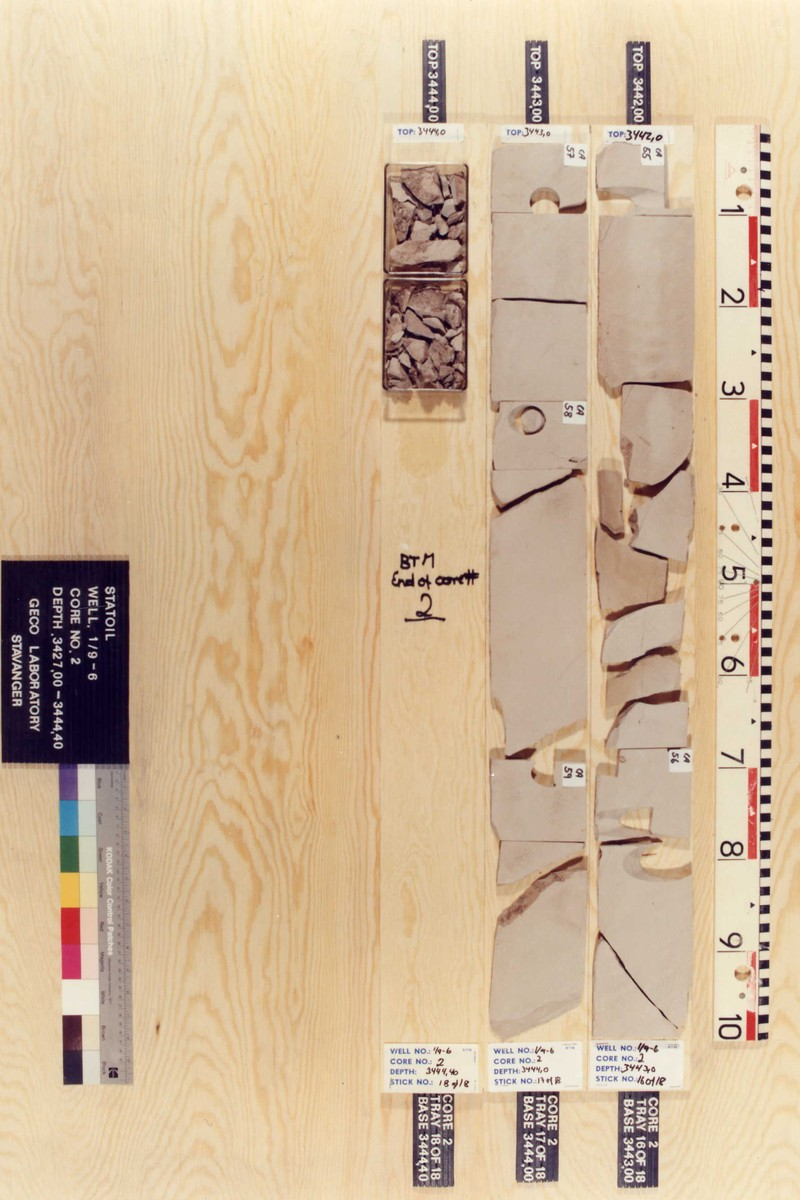core: (488, 141, 593, 1038), (593, 140, 697, 1038), (379, 161, 470, 394)
